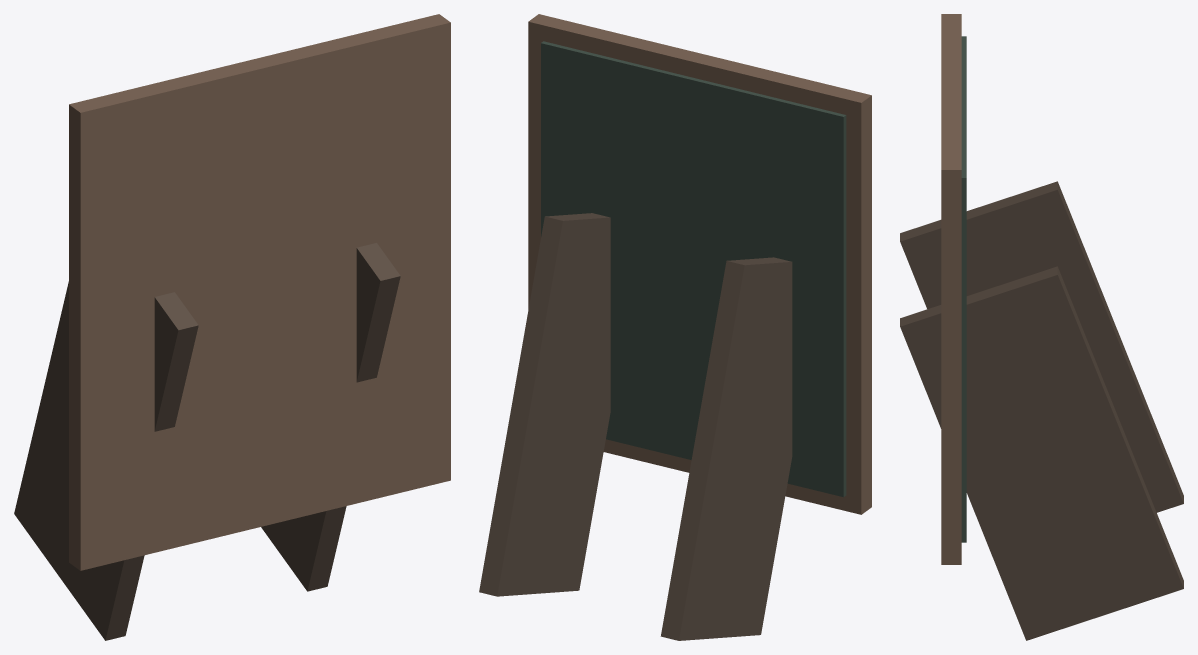
File: prop_tate_blackboard_a.glb
3 views of the same model, side by side, from view 1: azimuth 30°, elevation 25°; view 2: azimuth 150°, elevation 25°; view 3: azimuth 270°, elevation 25° (orthographic). The views are drawn at different scales.
Parts seen in each view (by area): view 1: tate_blackboard_a; view 2: tate_blackboard_a; view 3: tate_blackboard_a.
Boxes of the visible parts, x1,y1,x2,y2 form: tate_blackboard_a: [14, 14, 450, 640]; tate_blackboard_a: [479, 14, 871, 640]; tate_blackboard_a: [900, 14, 1183, 640].
Size of the model in its own units: 1.1 by 1.65 by 0.8461.
